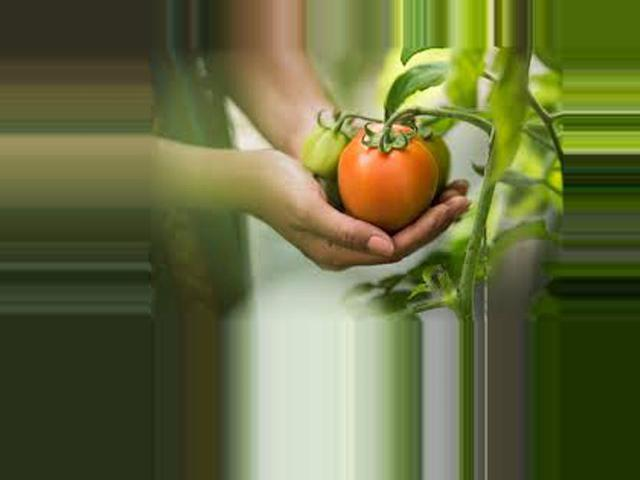tomato: (337, 124, 436, 226)
